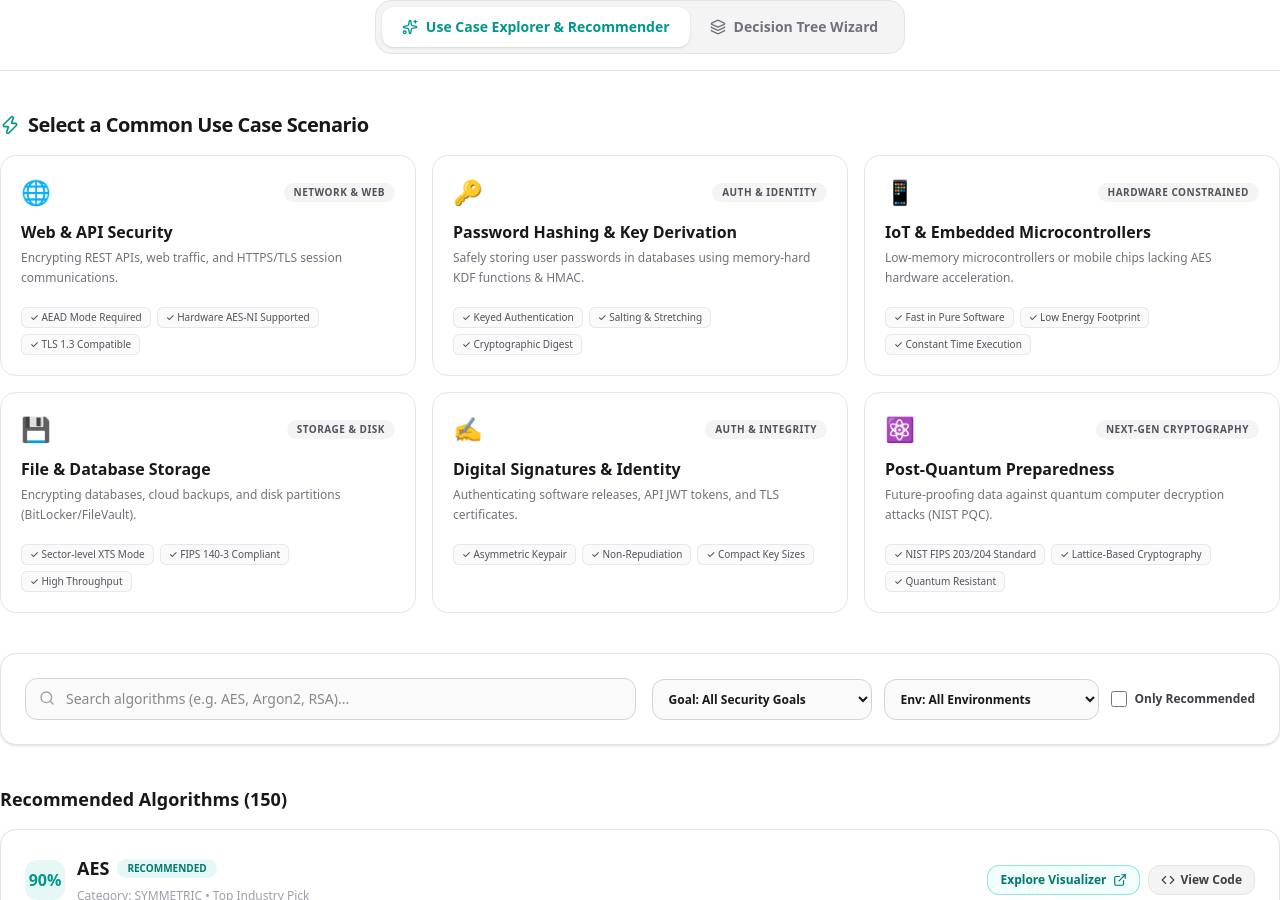
it: CipherRecommendationAssistant Component Unit Tests › toggles code snippet view when View Code button is clicked
The width and height of the screenshot is (1280, 900).
Click the button "View Code" at [1201, 880], box x1=1148 y1=865 x2=1255 y2=895
(page scrolled)
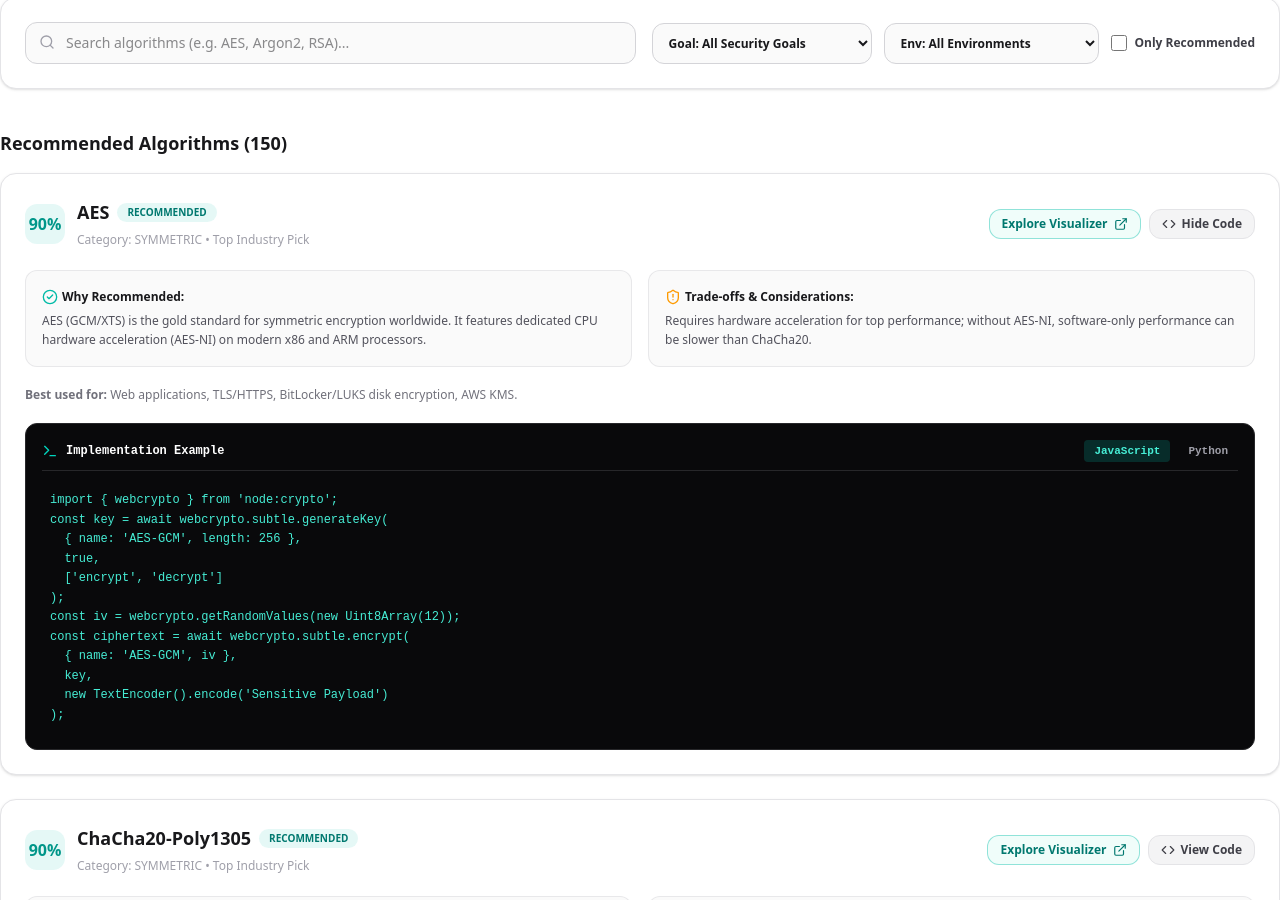
Expected: the text "Implementation Example" is shown, x1=66 y1=443 x2=224 y2=459
